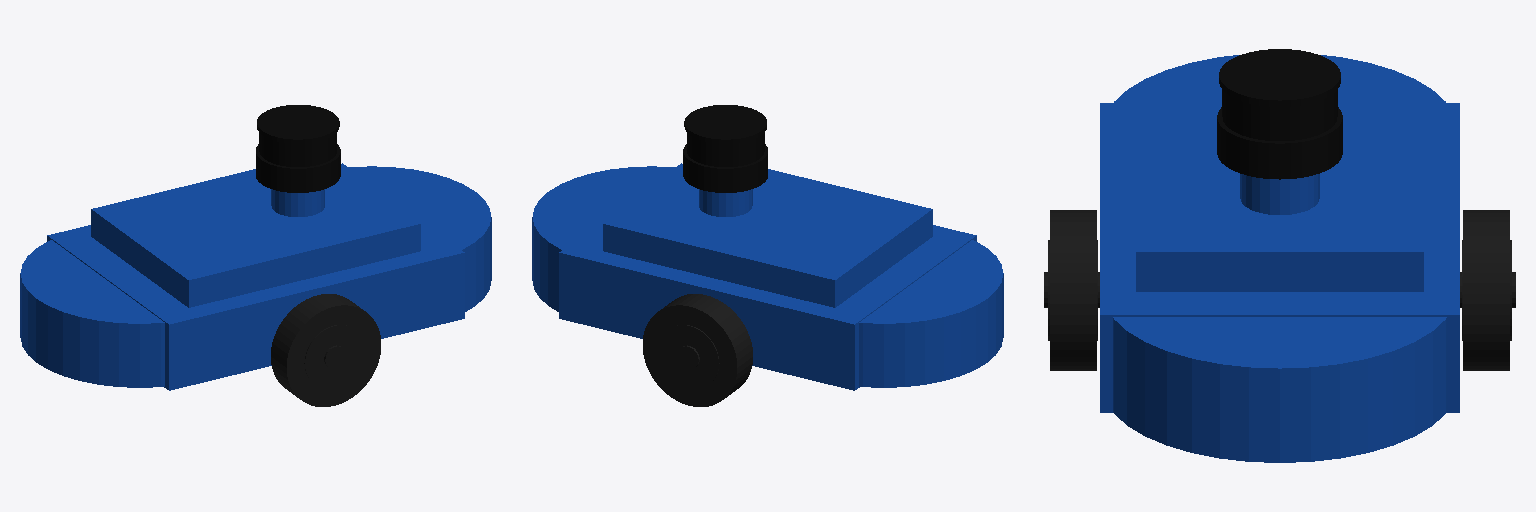
The robot description file, URDF, robot "coppeliabot":
<?xml version="1.0" ?>
<robot name="coppeliabot">

  <!-- ==================== MATERIALS ==================== -->
  <material name="chassis_blue">
    <color rgba="0.12 0.35 0.70 1.0"/>
  </material>
  <material name="tire_black">
    <color rgba="0.15 0.15 0.15 1.0"/>
  </material>
  <material name="accent_yellow">
    <color rgba="0.95 0.75 0.10 1.0"/>
  </material>
  <material name="caster_silver">
    <color rgba="0.80 0.80 0.82 1.0"/>
  </material>
  <material name="sensor_dark">
    <color rgba="0.08 0.08 0.08 1.0"/>
  </material>

  <!-- ==================== BASE FOOTPRINT ==================== -->
  <link name="base_footprint"/>

  <joint name="base_footprint_joint" type="fixed">
    <parent link="base_footprint"/>
    <child link="base_link"/>
    <origin xyz="0 0 0.045" rpy="0 0 0"/>
  </joint>

  <!-- ==================== BASE LINK (CHASSIS) ==================== -->
  <link name="base_link">
    <inertial>
      <origin xyz="0.0 0.0 0.02" rpy="0 0 0"/>
      <mass value="3.5"/>
      <inertia ixx="0.01353" ixy="0.0" ixz="0.0"
               iyy="0.02473" iyz="0.0"
               izz="0.03453"/>
    </inertial>
    
    <!-- Visual Shape -->
    <visual>
      <origin xyz="0 0 0.02" rpy="0 0 0"/>
      <geometry>
        <mesh filename="meshes/chassis.stl" scale="1 1 1"/>
      </geometry>
      <material name="chassis_blue"/>
    </visual>
    
    <!-- Respondable Collision Shape (simplified box for physics stability) -->
    <collision>
      <origin xyz="0 0 0.02" rpy="0 0 0"/>
      <geometry>
        <box size="0.28 0.20 0.07"/>
      </geometry>
    </collision>
  </link>

  <!-- ==================== LEFT WHEEL ==================== -->
  <link name="left_wheel">
    <inertial>
      <origin xyz="0 0 0" rpy="0 0 0"/>
      <mass value="0.25"/>
      <inertia ixx="0.000141" ixy="0.0" ixz="0.0"
               iyy="0.000253" iyz="0.0"
               izz="0.000141"/>
    </inertial>
    <visual>
      <origin xyz="0 0 0" rpy="0 0 0"/>
      <geometry>
        <mesh filename="meshes/wheel.stl" scale="1 1 1"/>
      </geometry>
      <material name="tire_black"/>
    </visual>
    <collision>
      <origin xyz="0 0 0" rpy="1.57079632679 0 0"/>
      <geometry>
        <cylinder radius="0.045" length="0.026"/>
      </geometry>
    </collision>
  </link>

  <joint name="left_wheel_joint" type="continuous">
    <parent link="base_link"/>
    <child link="left_wheel"/>
    <origin xyz="0.0 0.115 0.0" rpy="0 0 0"/>
    <axis xyz="0 1 0"/>
    <limit effort="15.0" velocity="25.0"/>
  </joint>

  <!-- ==================== RIGHT WHEEL ==================== -->
  <link name="right_wheel">
    <inertial>
      <origin xyz="0 0 0" rpy="0 0 0"/>
      <mass value="0.25"/>
      <inertia ixx="0.000141" ixy="0.0" ixz="0.0"
               iyy="0.000253" iyz="0.0"
               izz="0.000141"/>
    </inertial>
    <visual>
      <origin xyz="0 0 0" rpy="0 0 0"/>
      <geometry>
        <mesh filename="meshes/wheel.stl" scale="1 1 1"/>
      </geometry>
      <material name="tire_black"/>
    </visual>
    <collision>
      <origin xyz="0 0 0" rpy="1.57079632679 0 0"/>
      <geometry>
        <cylinder radius="0.045" length="0.026"/>
      </geometry>
    </collision>
  </link>

  <joint name="right_wheel_joint" type="continuous">
    <parent link="base_link"/>
    <child link="right_wheel"/>
    <origin xyz="0.0 -0.115 0.0" rpy="0 0 0"/>
    <axis xyz="0 1 0"/>
    <limit effort="15.0" velocity="25.0"/>
  </joint>

  <!-- ==================== FRONT CASTER ==================== -->
  <link name="front_caster">
    <inertial>
      <origin xyz="0 0 0" rpy="0 0 0"/>
      <mass value="0.08"/>
      <inertia ixx="0.0000155" ixy="0.0" ixz="0.0"
               iyy="0.0000155" iyz="0.0"
               izz="0.0000155"/>
    </inertial>
    <visual>
      <origin xyz="0 0 0" rpy="0 0 0"/>
      <geometry>
        <mesh filename="meshes/caster.stl" scale="1 1 1"/>
      </geometry>
      <material name="caster_silver"/>
    </visual>
    <collision>
      <origin xyz="0 0 -0.008" rpy="0 0 0"/>
      <geometry>
        <sphere radius="0.022"/>
      </geometry>
    </collision>
  </link>

  <joint name="front_caster_joint" type="fixed">
    <parent link="base_link"/>
    <child link="front_caster"/>
    <origin xyz="0.10 0.0 -0.015" rpy="0 0 0"/>
  </joint>

  <!-- ==================== REAR CASTER ==================== -->
  <link name="rear_caster">
    <inertial>
      <origin xyz="0 0 0" rpy="0 0 0"/>
      <mass value="0.08"/>
      <inertia ixx="0.0000155" ixy="0.0" ixz="0.0"
               iyy="0.0000155" iyz="0.0"
               izz="0.0000155"/>
    </inertial>
    <visual>
      <origin xyz="0 0 0" rpy="0 0 0"/>
      <geometry>
        <mesh filename="meshes/caster.stl" scale="1 1 1"/>
      </geometry>
      <material name="caster_silver"/>
    </visual>
    <collision>
      <origin xyz="0 0 -0.008" rpy="0 0 0"/>
      <geometry>
        <sphere radius="0.022"/>
      </geometry>
    </collision>
  </link>

  <joint name="rear_caster_joint" type="fixed">
    <parent link="base_link"/>
    <child link="rear_caster"/>
    <origin xyz="-0.10 0.0 -0.015" rpy="0 0 0"/>
  </joint>

  <!-- ==================== LIDAR SENSOR ==================== -->
  <link name="lidar_link">
    <inertial>
      <origin xyz="0 0 0" rpy="0 0 0"/>
      <mass value="0.15"/>
      <inertia ixx="0.0000713" ixy="0.0" ixz="0.0"
               iyy="0.0000713" iyz="0.0"
               izz="0.0000918"/>
    </inertial>
    <visual>
      <origin xyz="0 0 0" rpy="0 0 0"/>
      <geometry>
        <mesh filename="meshes/lidar.stl" scale="1 1 1"/>
      </geometry>
      <material name="sensor_dark"/>
    </visual>
    <collision>
      <origin xyz="0 0 0.005" rpy="0 0 0"/>
      <geometry>
        <cylinder radius="0.035" length="0.045"/>
      </geometry>
    </collision>
  </link>

  <joint name="lidar_joint" type="fixed">
    <parent link="base_link"/>
    <child link="lidar_link"/>
    <origin xyz="0.04 0.0 0.125" rpy="0 0 0"/>
  </joint>

</robot>

--- Facts derived from the render (not from the file) ---
3 views of the same robot in one strip: view 1: azimuth 30°, elevation 25°; view 2: azimuth 150°, elevation 25°; view 3: azimuth 270°, elevation 25° (orthographic).
Model coppeliabot with 7 links and 6 joints (2 continuous, 4 fixed), rooted at base_footprint, posed every joint at zero.
Visible links, largest first — view 1: base_link, right_wheel, lidar_link; view 2: base_link, left_wheel, lidar_link; view 3: base_link, lidar_link, left_wheel, right_wheel.
Boxes of the visible links, x1=… form: base_link: x1=20, y1=163, x2=491, y2=390; right_wheel: x1=271, y1=294, x2=380, y2=406; lidar_link: x1=256, y1=105, x2=340, y2=192; base_link: x1=532, y1=163, x2=1003, y2=390; left_wheel: x1=643, y1=294, x2=752, y2=406; lidar_link: x1=683, y1=105, x2=767, y2=192; base_link: x1=1100, y1=55, x2=1459, y2=462; lidar_link: x1=1217, y1=49, x2=1342, y2=179; left_wheel: x1=1460, y1=210, x2=1515, y2=370; right_wheel: x1=1044, y1=210, x2=1099, y2=370.
Size in the robot's own frame: 0.416 by 0.262 by 0.196 metres.
Meshes: 4 distinct files referenced, 6 mesh visuals loaded (4 binary STL).
